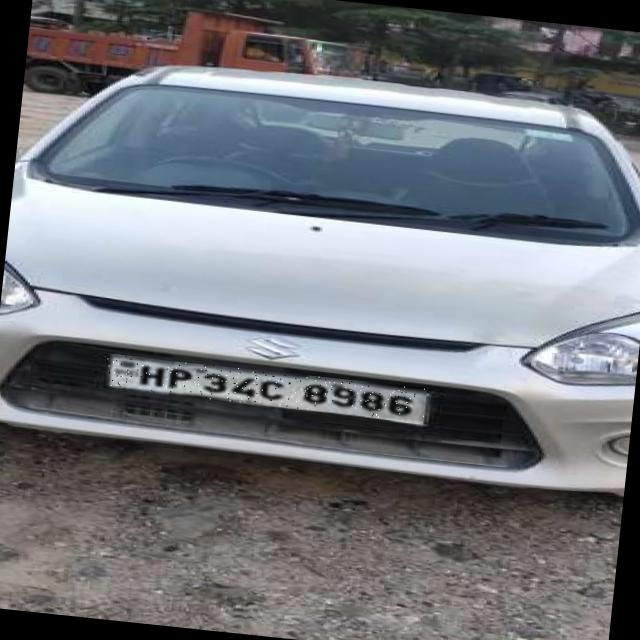Plate: (104, 355, 428, 423)
